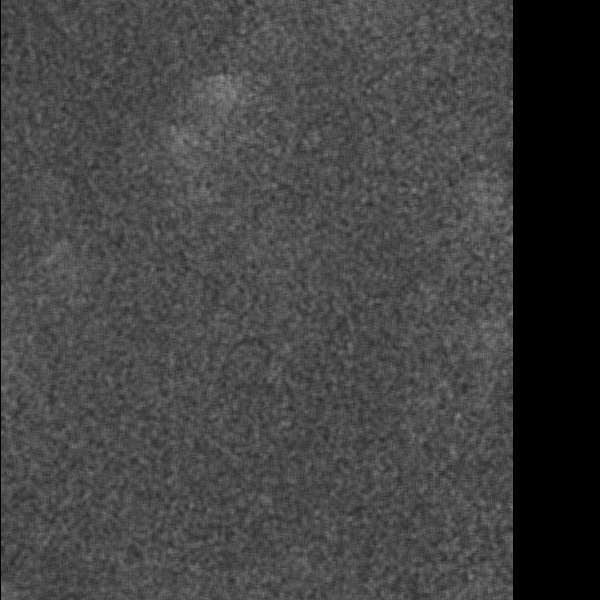spark: (210, 65, 237, 136)
